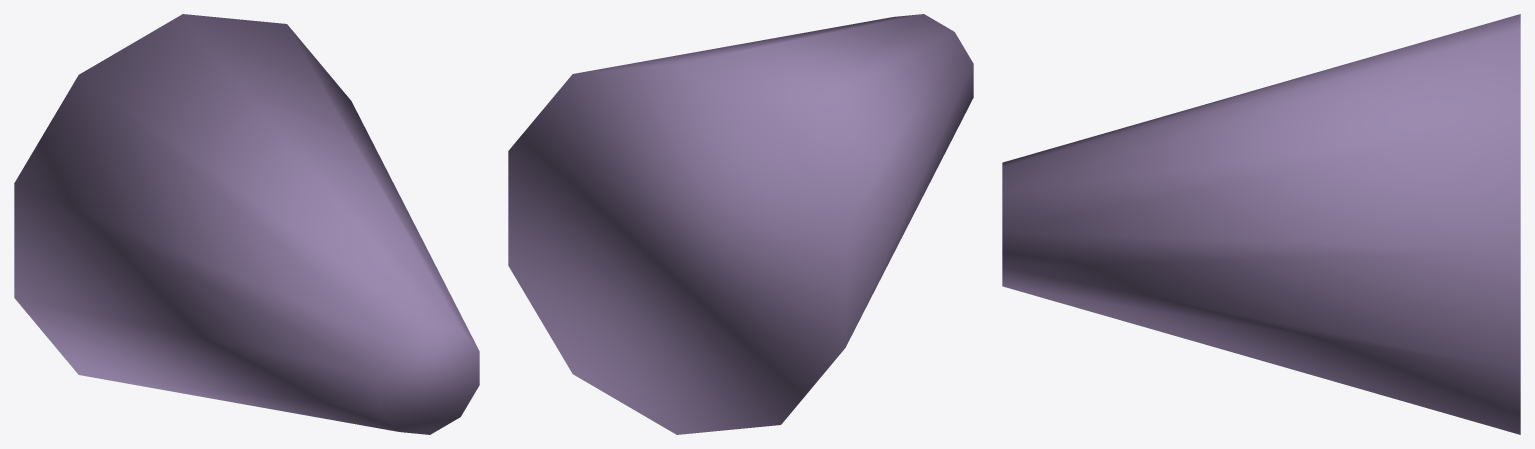
Rendered from bore_tail.glb.
The picture shows the model from 3 angles, left to right: view 1: azimuth 30°, elevation 25°; view 2: azimuth 150°, elevation 25°; view 3: azimuth 270°, elevation 25°; orthographic projection. The views are drawn at different scales.
Visible parts, largest first — view 1: bore_tail; view 2: bore_tail; view 3: bore_tail.
Boxes of the visible parts, x1,y1,x2,y2 form: bore_tail: [14, 14, 479, 434]; bore_tail: [508, 14, 973, 434]; bore_tail: [1002, 14, 1520, 434].
Bounding box in the file's own units: 1.21 × 1.27 × 1.54.
